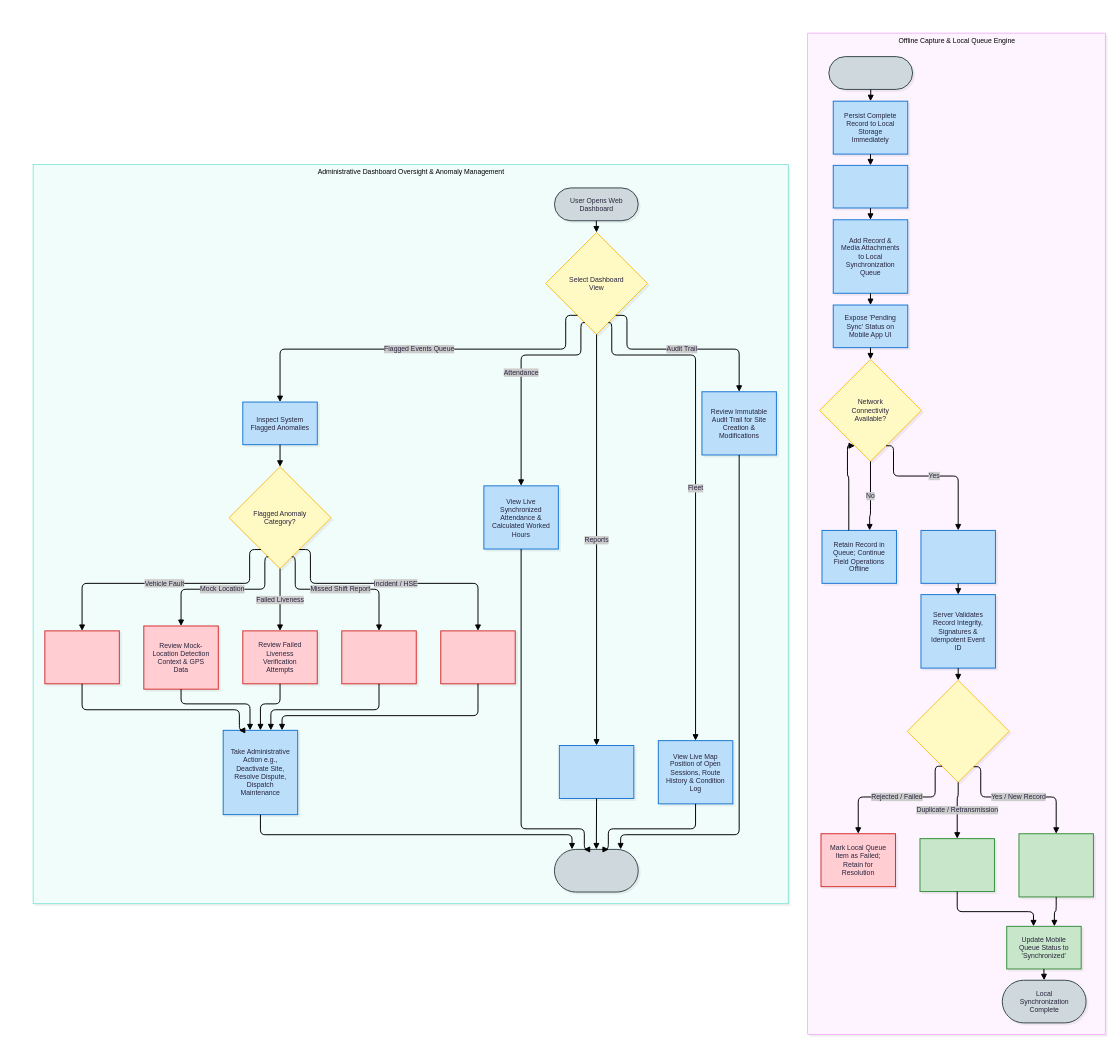
Some shapes in this 1116 by 1045 pixel diagram are drawn without their labels. The shapes that lost their labels are listed below. From the top down, each one's centre as x and y in pixels, then its label:
At (871,74): "Field Event Captured Offline".
At (871,187): "Assign Unique Stable Event Identifier".
At (959,558): "Initiate Auto-Sync Transmission to Backend API".
At (83,658): "Review Vehicle Fault Alert & Inspection Evidence".
At (379,658): "Review Escalated Missed 12-Hour Shift Report Alert".
At (478,658): "Review Incident / Equipment Failure Notes & Attachments".
At (958,732): "Server Validation Passed?".
At (597,773): "Access Chronological Site Progress Report Archive".
At (597,871): "Dashboard Oversight Complete".
At (958,866): "Acknowledge Request; Ignore Duplicate Storage".
At (1057,866): "Persist Record in Central Relational DB & Media in Object Storage".
